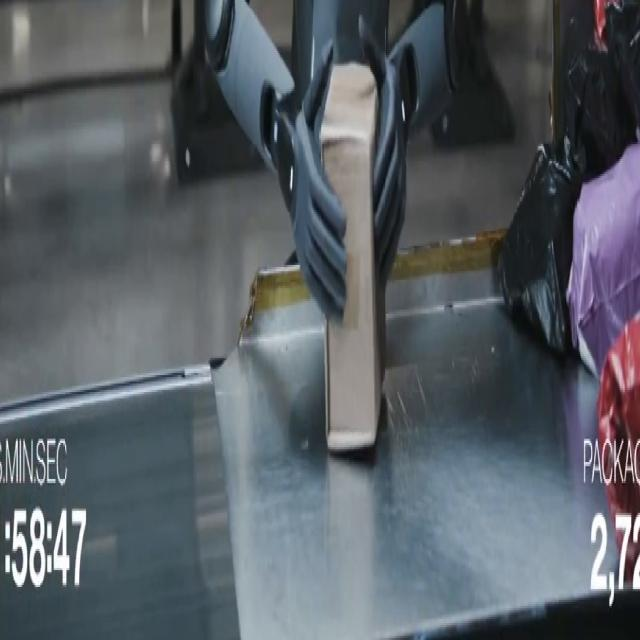package: (320, 64, 385, 451), (499, 145, 580, 353), (567, 145, 639, 377), (564, 22, 636, 180), (598, 318, 639, 527), (606, 0, 639, 129), (594, 0, 611, 46)
